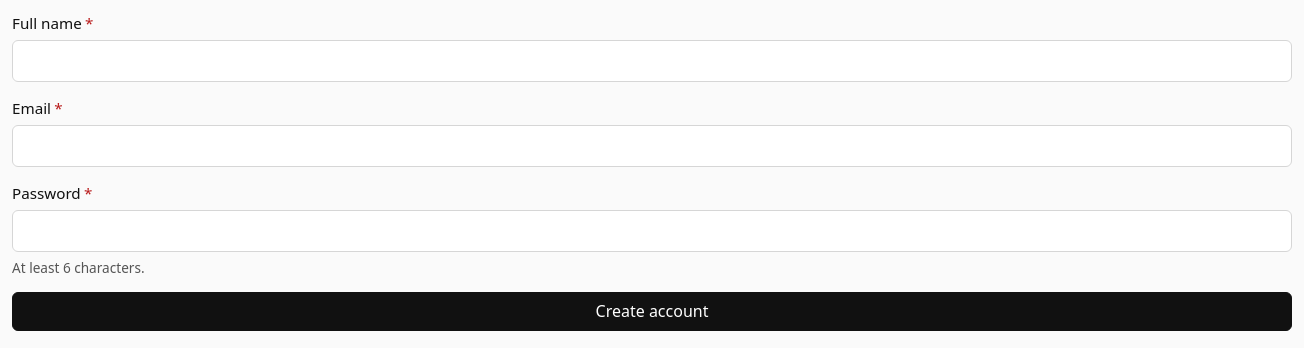
it: RegisterForm › short password trips client-side validation; no fetch issued
In the field labelled "Full name*": point(652, 61) [12, 40, 1292, 82], type "New User"
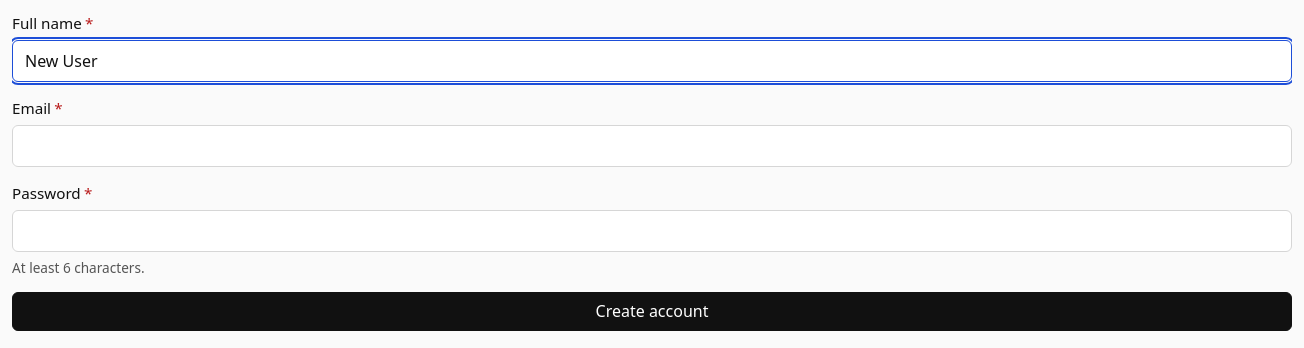
In the field labelled "Email*": point(652, 146) [12, 125, 1292, 167], type "newuser@example.com"
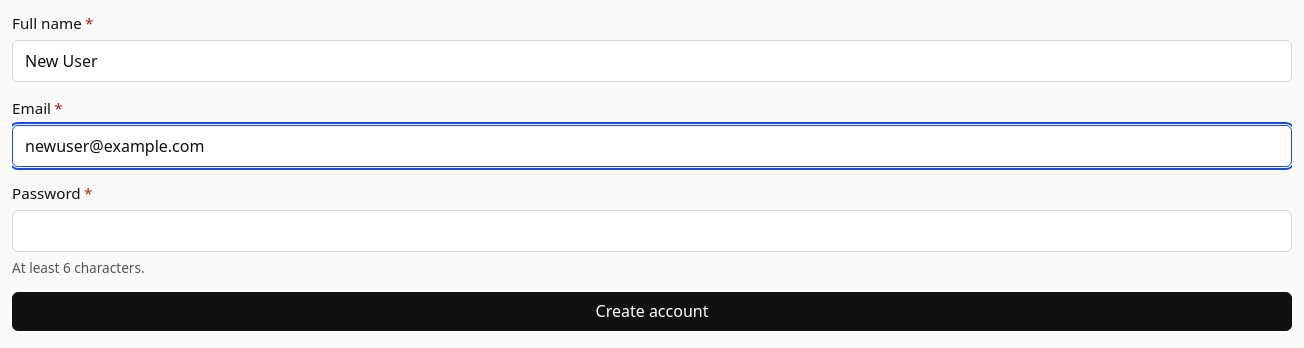
In the password field labelled "Password*": point(652, 231) [12, 210, 1292, 252], type "12345"
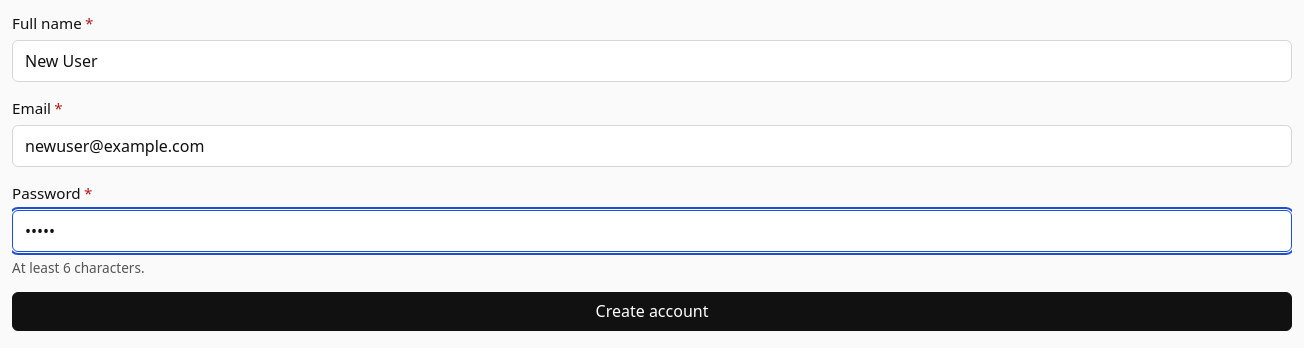
Click the button "Create account": point(652, 312) [12, 292, 1292, 331]
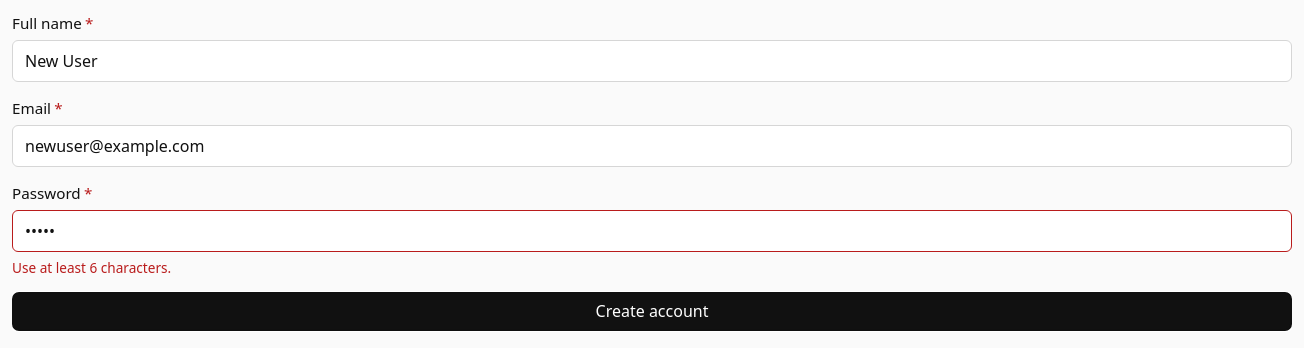
Expected: the text "Use at least 6 characters." is shown, [12, 258, 171, 276]
